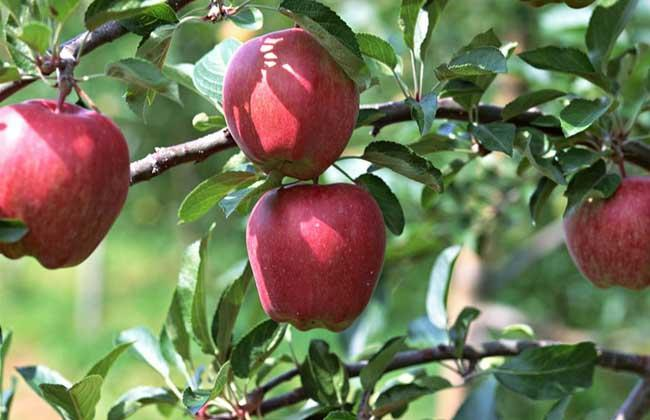apple: (1, 100, 135, 272), (219, 29, 360, 175), (247, 185, 386, 332), (563, 178, 649, 291)
